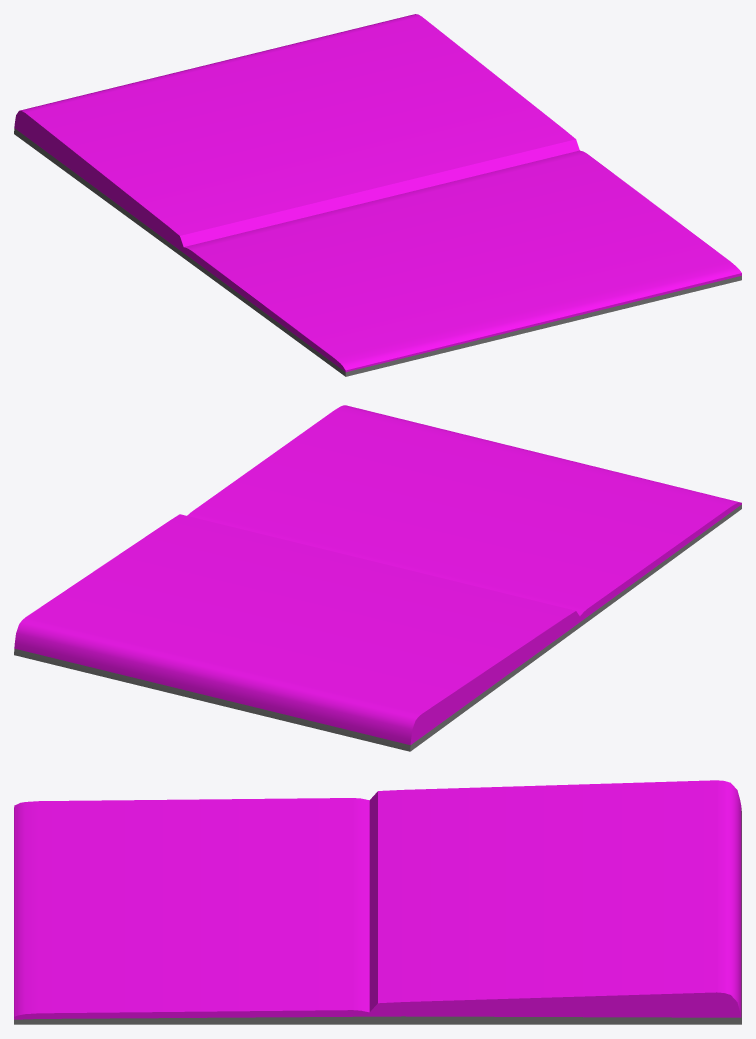
File: livret.fbx
3 views of the same model, one above another, from view 1: azimuth 30°, elevation 25°; view 2: azimuth 150°, elevation 25°; view 3: azimuth 270°, elevation 25° (orthographic). The views are drawn at different scales.
Visible parts, largest first — view 1: Box001; view 2: Box001; view 3: Box001.
Part boxes in pixels (x1,y1,x2,y2): Box001: [14, 14, 741, 376]; Box001: [14, 405, 741, 751]; Box001: [14, 780, 741, 1024].
Bounding box in the file's own units: 0.2 × 0.0142 × 0.29.
